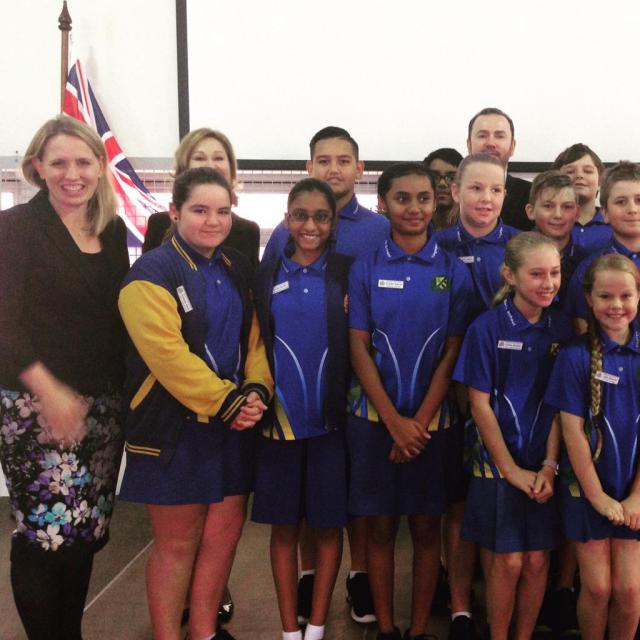body: (114, 163, 280, 639), (253, 125, 401, 634), (0, 106, 140, 640), (340, 155, 485, 639), (138, 125, 261, 625), (247, 172, 356, 640), (452, 228, 575, 640), (436, 152, 526, 640), (540, 245, 640, 639), (567, 158, 640, 340), (520, 169, 598, 296), (466, 106, 537, 234), (550, 142, 616, 251), (421, 147, 465, 233)
